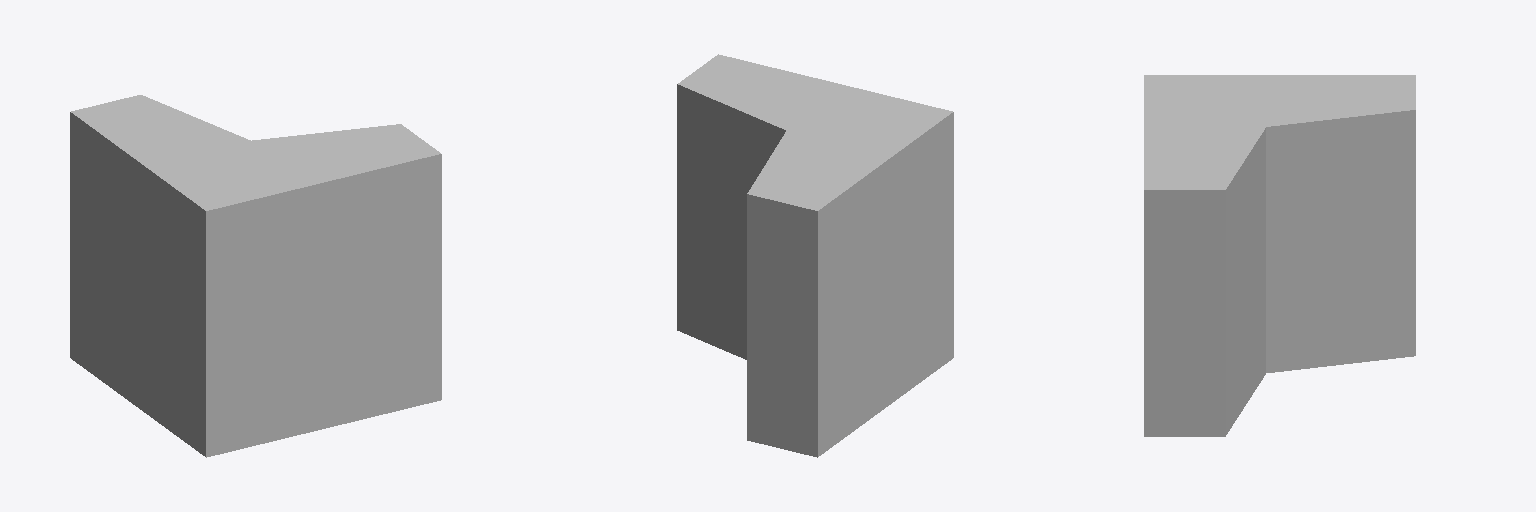
File: Cliff_Mid_Corner_Inner_Sm.obj
3 views of the same model, side by side, from view 1: azimuth 30°, elevation 25°; view 2: azimuth 150°, elevation 25°; view 3: azimuth 270°, elevation 25° (orthographic).
Visible parts, largest first — view 1: object1; view 2: object1; view 3: object1.
Part boxes in pixels (x1,y1,x2,y2): object1: (70,95,441,457); object1: (677,54,953,457); object1: (1144,75,1415,436).
Bounding box in the file's own units: 1 × 1 × 1.